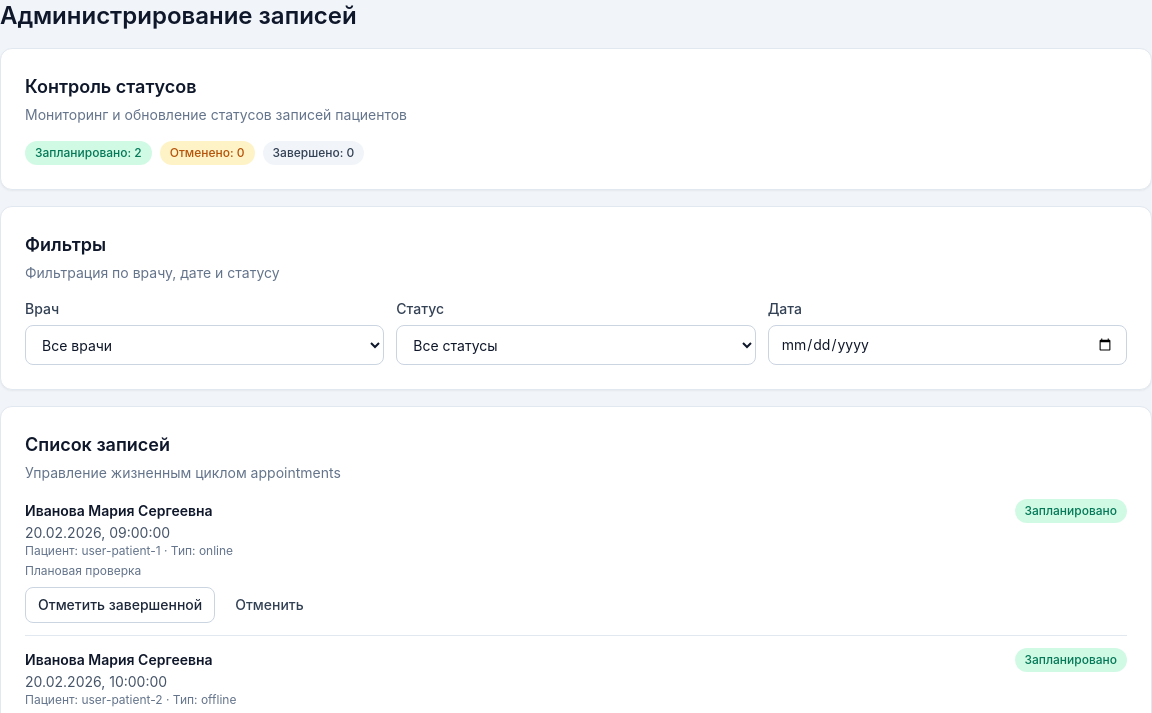
Test: AdminAppointmentsPage integration › обновляет статус записи: completed и cancelled
Expected: the text "Плановая проверка" is shown, [25, 563, 141, 578]
Click the button "Отметить завершенной" at (120,605), box [25, 587, 215, 623]
(page scrolled)
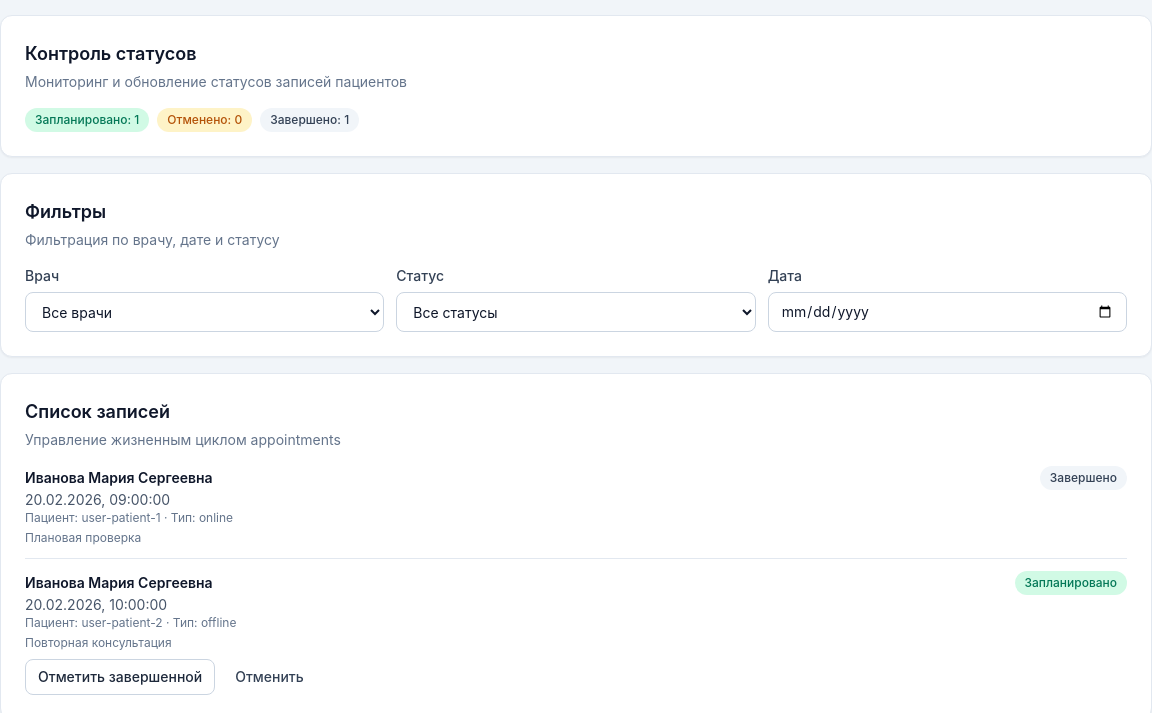
Now the text "Завершено: 1" is shown, box [260, 108, 359, 132]
Click the button "Отменить" at (269,677), box [223, 659, 316, 695]
(page scrolled)
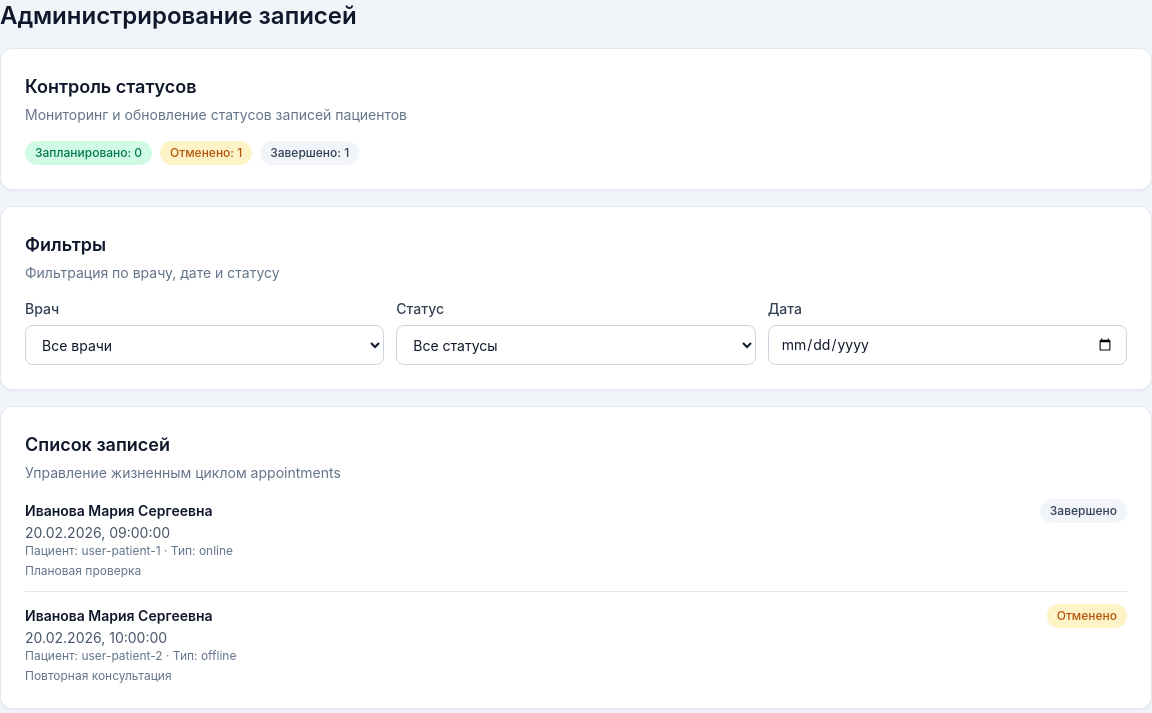
Now the text "Отменено: 1" is shown, box [160, 141, 252, 165]
